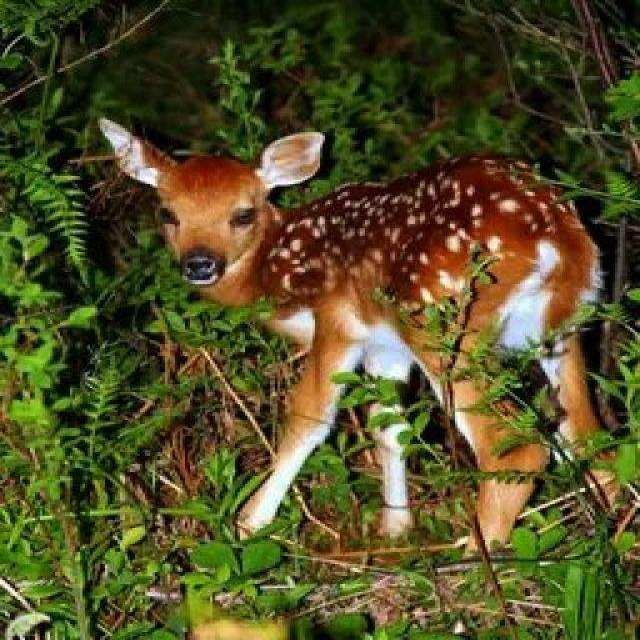deer: (148, 126, 638, 509)
